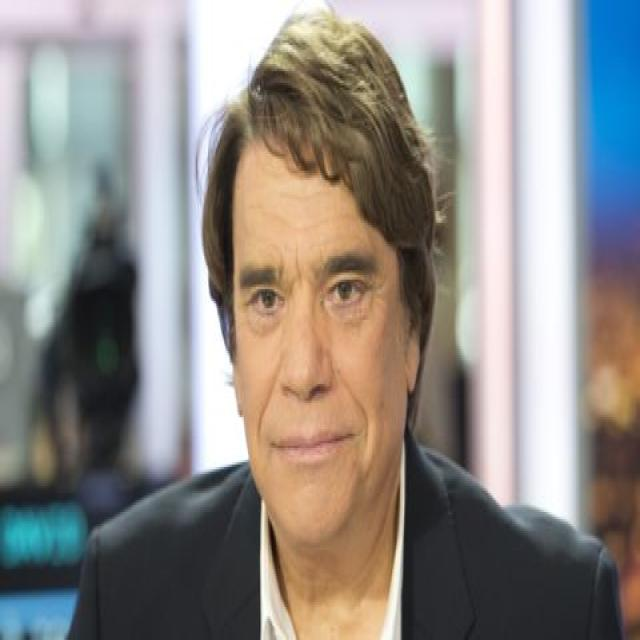human: (69, 8, 629, 640)
